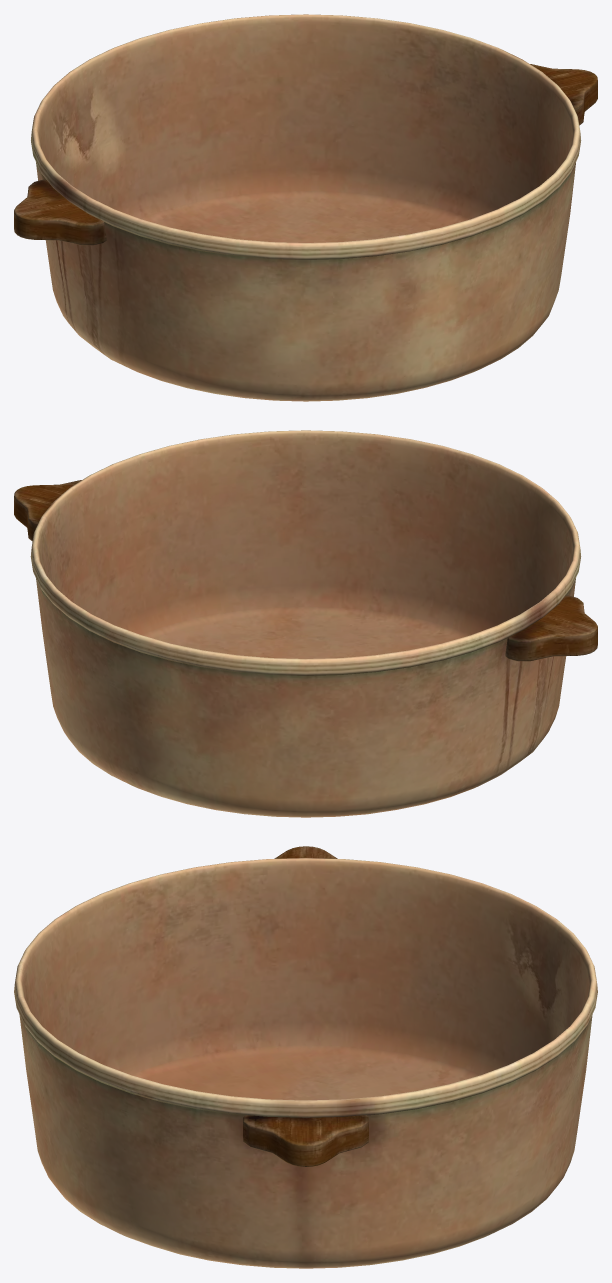
The model's file is brass_pot_02.glb.
The picture shows the model from 3 angles, top to bottom: view 1: azimuth 30°, elevation 25°; view 2: azimuth 150°, elevation 25°; view 3: azimuth 270°, elevation 25°; orthographic projection. The views are drawn at different scales.
Parts seen in each view (by area): view 1: brass_pot_02; view 2: brass_pot_02; view 3: brass_pot_02.
Boxes of the visible parts, x1,y1,x2,y2 form: brass_pot_02: (14,14,597,401); brass_pot_02: (14,430,597,817); brass_pot_02: (14,846,597,1268).
Size of the model in its own units: 0.3667 by 0.1085 by 0.3023.
Materials: 1 (1 with a texture image).
